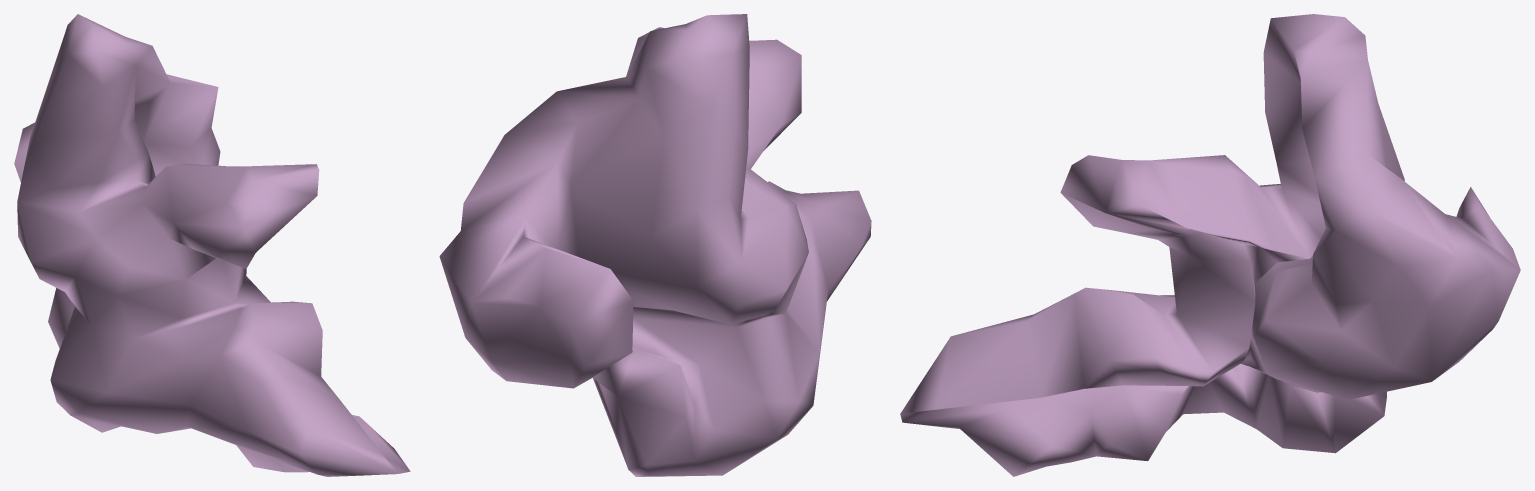
3 views of the same model, side by side, from view 1: azimuth 30°, elevation 25°; view 2: azimuth 150°, elevation 25°; view 3: azimuth 270°, elevation 25° (orthographic). The views are drawn at different scales.
Parts seen in each view (by area): view 1: 右侧顶下沟; view 2: 右侧顶下沟; view 3: 右侧顶下沟.
Boxes of the visible parts, x1,y1,x2,y2 form: 右侧顶下沟: [14, 14, 410, 476]; 右侧顶下沟: [439, 14, 871, 476]; 右侧顶下沟: [900, 14, 1520, 476].
Size of the model in its own units: 0.0222 by 0.0391 by 0.0528.
